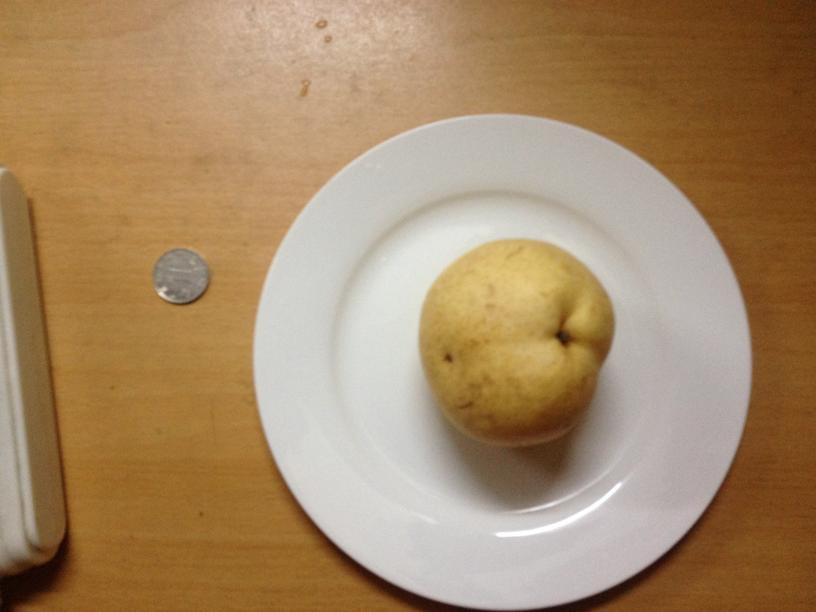coin: (148, 247, 209, 303)
pear: (417, 239, 615, 447)
